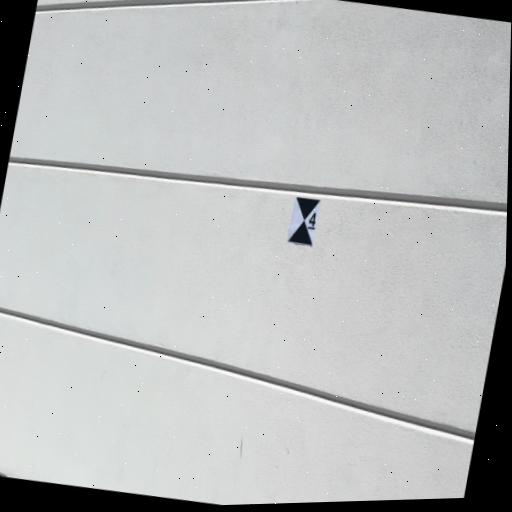target4: (287, 195, 321, 246)
